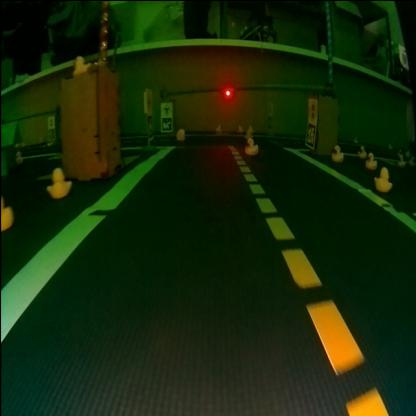Duckie: (46, 166, 72, 196), (374, 164, 392, 190), (72, 54, 90, 74), (244, 137, 258, 153), (332, 144, 343, 160), (366, 151, 376, 165), (358, 145, 366, 157), (176, 126, 184, 138)
Intersection sign: (162, 102, 170, 114)
QR code: (306, 122, 315, 146), (162, 116, 172, 130)
Signal sign: (308, 96, 318, 121)
Traffic light: (224, 85, 233, 95)
